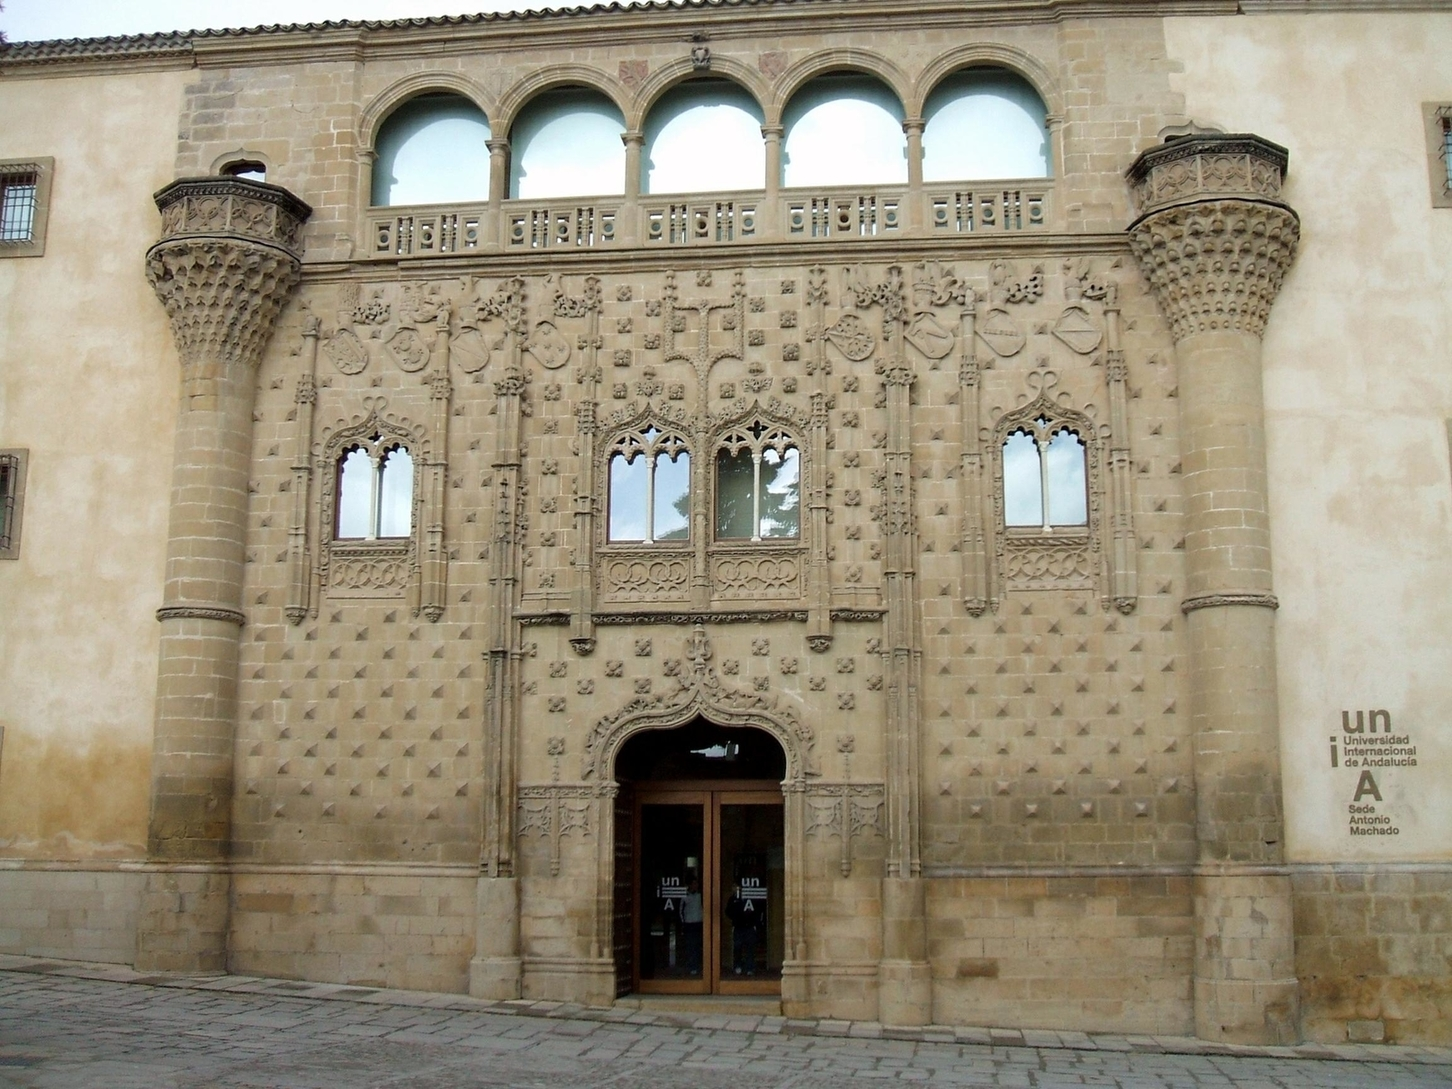arco-conopial: (592, 679, 801, 752), (989, 383, 1103, 442), (704, 396, 811, 456), (592, 398, 702, 456), (318, 406, 429, 462)
arco-medio-punto: (630, 48, 777, 146), (776, 42, 915, 142), (914, 42, 1061, 134), (361, 65, 500, 159), (496, 58, 635, 150)
